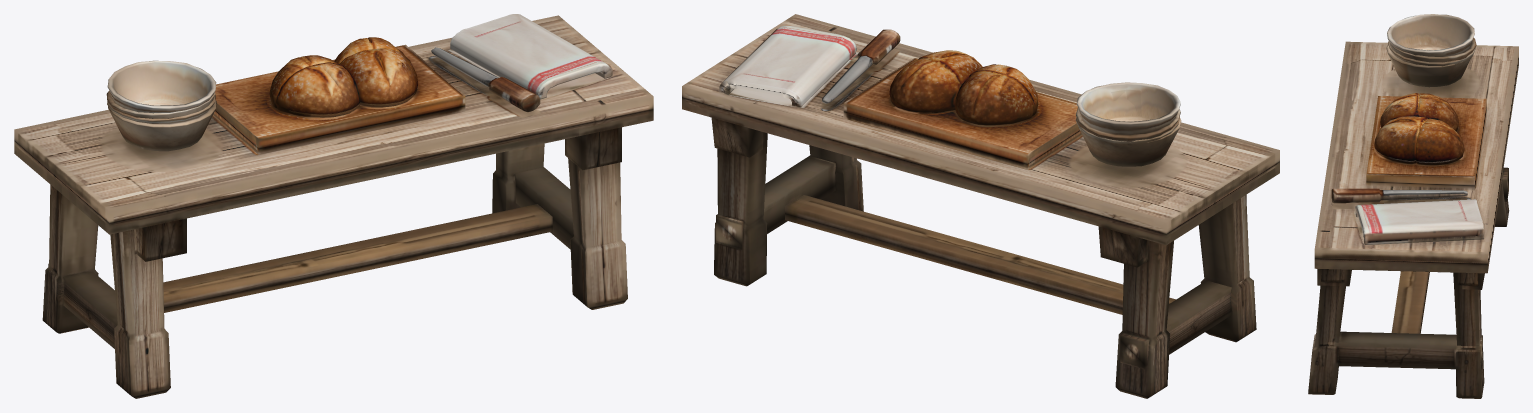
Rendered from act1_kit_v1_kitchen_table.glb.
3 renders of one model, left to right at view 1: azimuth 30°, elevation 25°; view 2: azimuth 150°, elevation 25°; view 3: azimuth 270°, elevation 25°, orthographic. The views are drawn at different scales.
Parts seen in each view (by area): view 1: act1_kit_v1_kitchen_table; view 2: act1_kit_v1_kitchen_table; view 3: act1_kit_v1_kitchen_table.
Boxes of the visible parts, x1,y1,x2,y2 form: act1_kit_v1_kitchen_table: (14,14,653,398); act1_kit_v1_kitchen_table: (682,14,1279,398); act1_kit_v1_kitchen_table: (1308,14,1518,398).
Size of the model in its own units: 1 by 0.4628 by 0.4197.
Materials: 1 (1 with a texture image).
